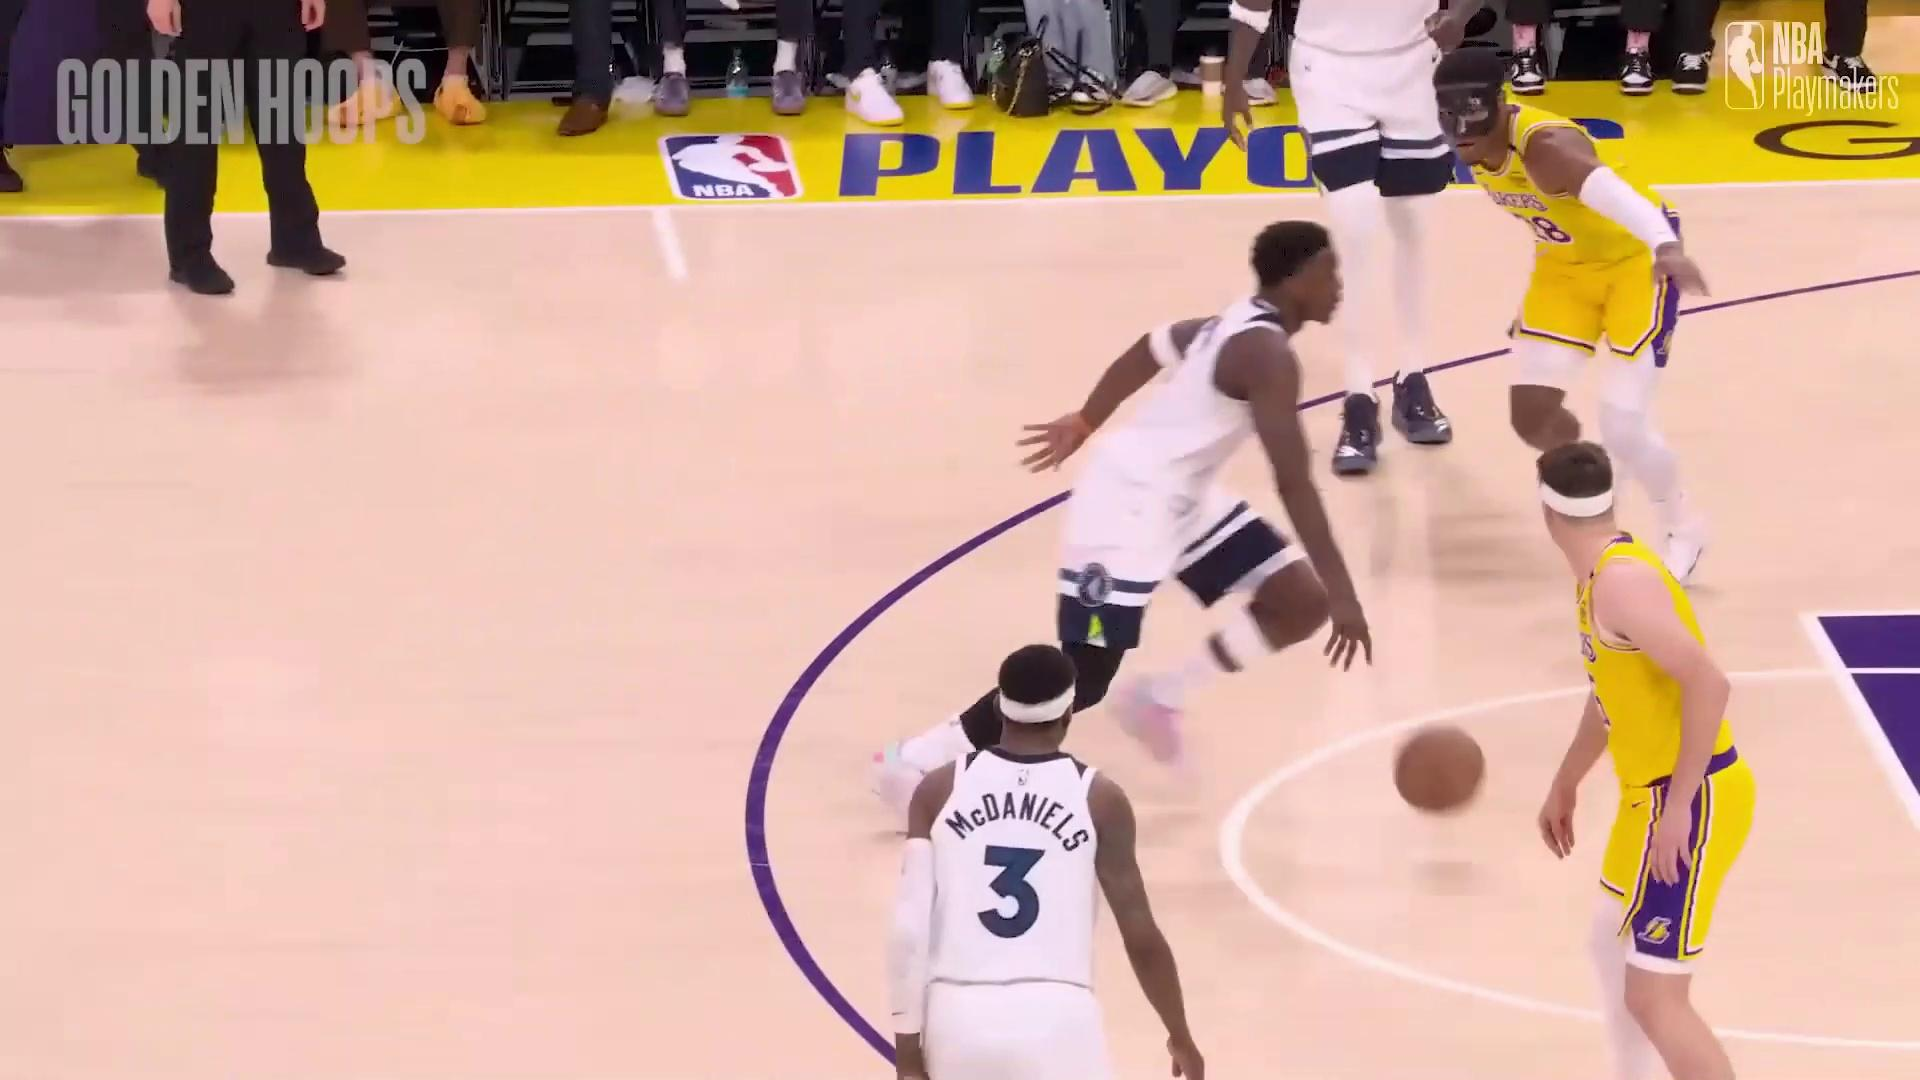ball: (1390, 724, 1486, 819)
